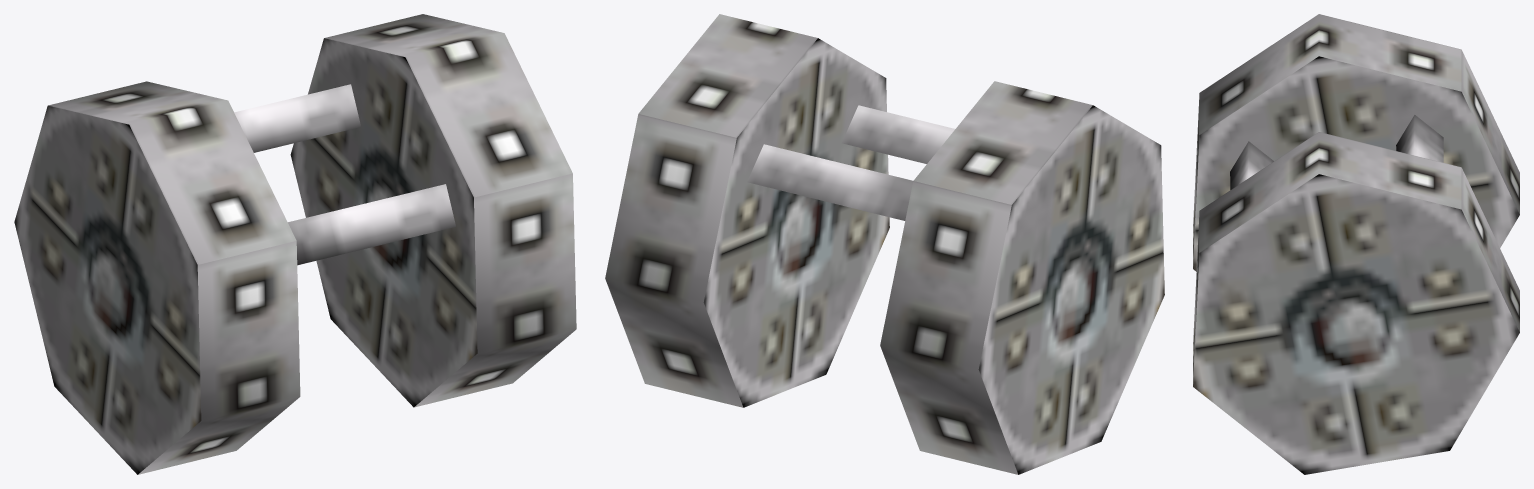
The model's file is GLA - Ground Vehicles - Radar Van - Damage State 2 - UVRadarVan_d2.glb.
The picture shows the model from 3 angles, left to right: view 1: azimuth 30°, elevation 25°; view 2: azimuth 150°, elevation 25°; view 3: azimuth 270°, elevation 25°; orthographic projection. The views are drawn at different scales.
Parts seen in each view (by area): view 1: UVRADARVAN_D2; view 2: UVRADARVAN_D2; view 3: UVRADARVAN_D2.
Boxes of the visible parts, x1,y1,x2,y2 form: UVRADARVAN_D2: (14, 14, 576, 474); UVRADARVAN_D2: (605, 14, 1164, 474); UVRADARVAN_D2: (1193, 14, 1519, 474).
Bounding box in the file's own units: 5.53 × 4.85 × 4.77.
1 material, 1 textured.
